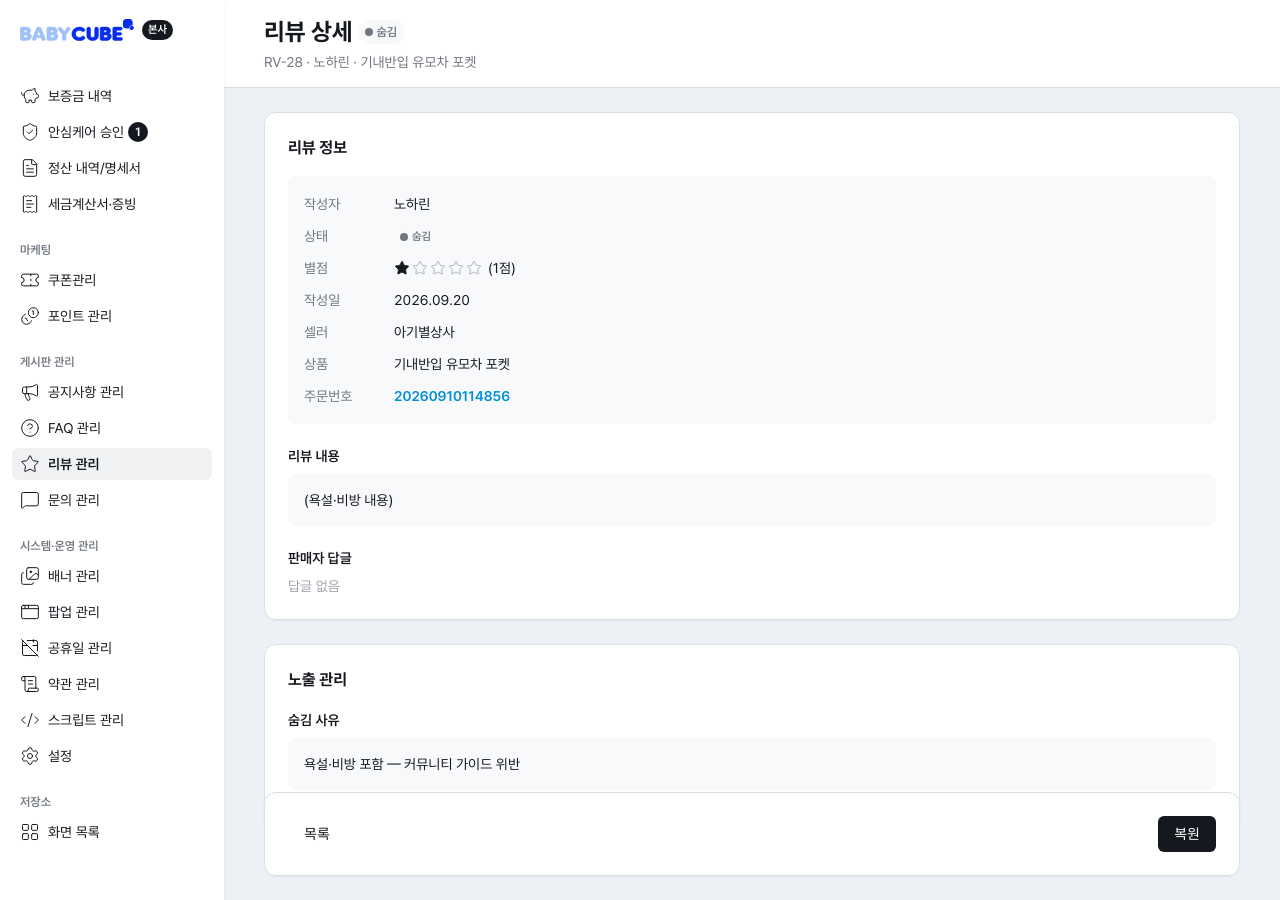
Test case: 노출 관리 — 숨김 중이면 [복원] (RV-28) › [복원] — 확인 없이 알림만, 화면은 그대로
(page scrolled)
Click the button "복원" at (1187, 834), box [1158,816,1216,852]
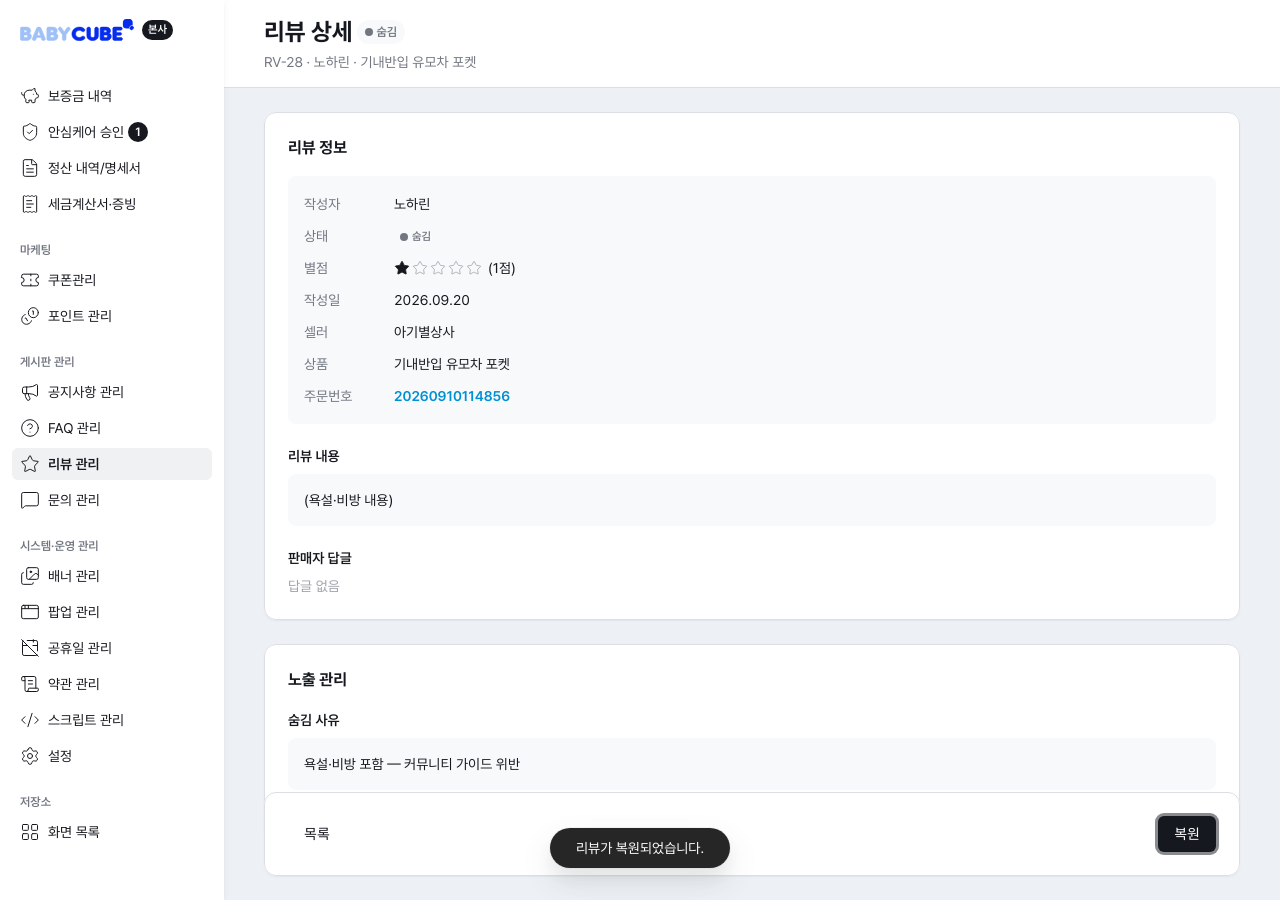
Expected: the text "욕설·비방 포함 — 커뮤니티 가이드 위반" is shown, [288,738,1216,790]
Expected: the text "리뷰가 복원되었습니다." is shown, [550,828,730,868]
